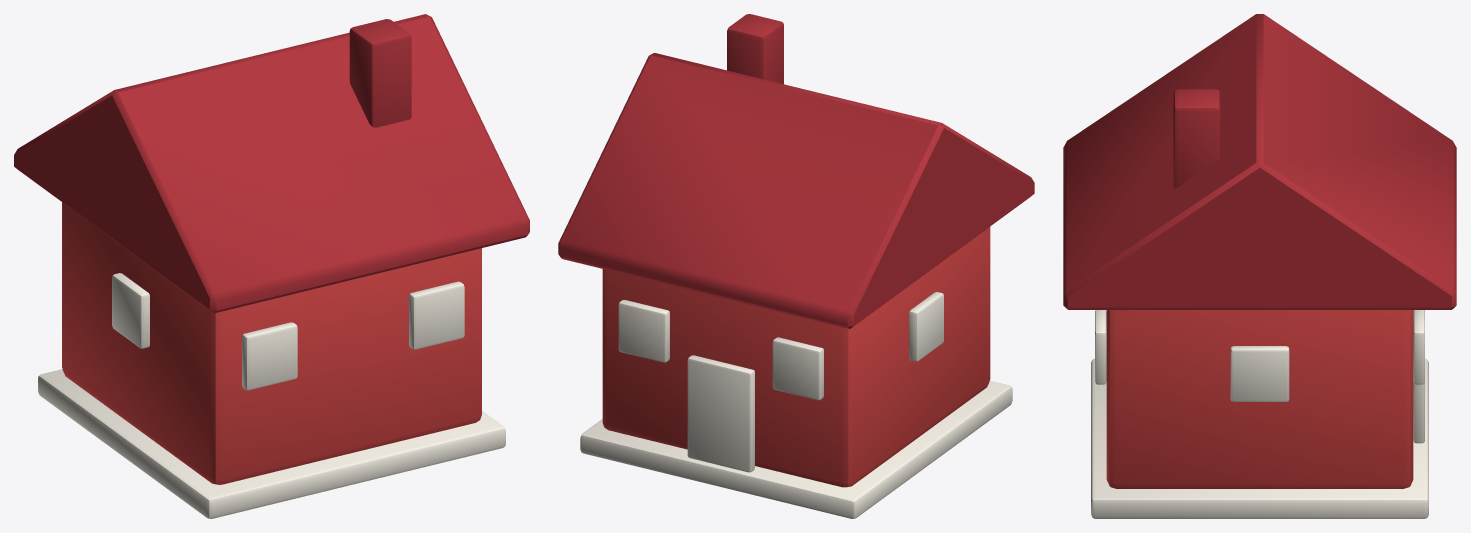
Rendered from House.fbx.
3 views of the same model, side by side, from view 1: azimuth 30°, elevation 25°; view 2: azimuth 150°, elevation 25°; view 3: azimuth 270°, elevation 25° (orthographic). The views are drawn at different scales.
Visible parts, largest first — view 1: Roof, Body, Trim; view 2: Roof, Body, Trim; view 3: Roof, Body, Trim.
Boxes of the visible parts, x1,y1,x2,y2 form: Roof: [14, 14, 529, 313]; Body: [62, 202, 481, 484]; Trim: [38, 273, 505, 518]; Roof: [558, 14, 1034, 328]; Body: [602, 227, 990, 487]; Trim: [580, 292, 1012, 518]; Roof: [1063, 14, 1456, 309]; Body: [1106, 310, 1413, 488]; Trim: [1091, 310, 1428, 518].
Size of the model in its own units: 0.92 by 1.09 by 1.
